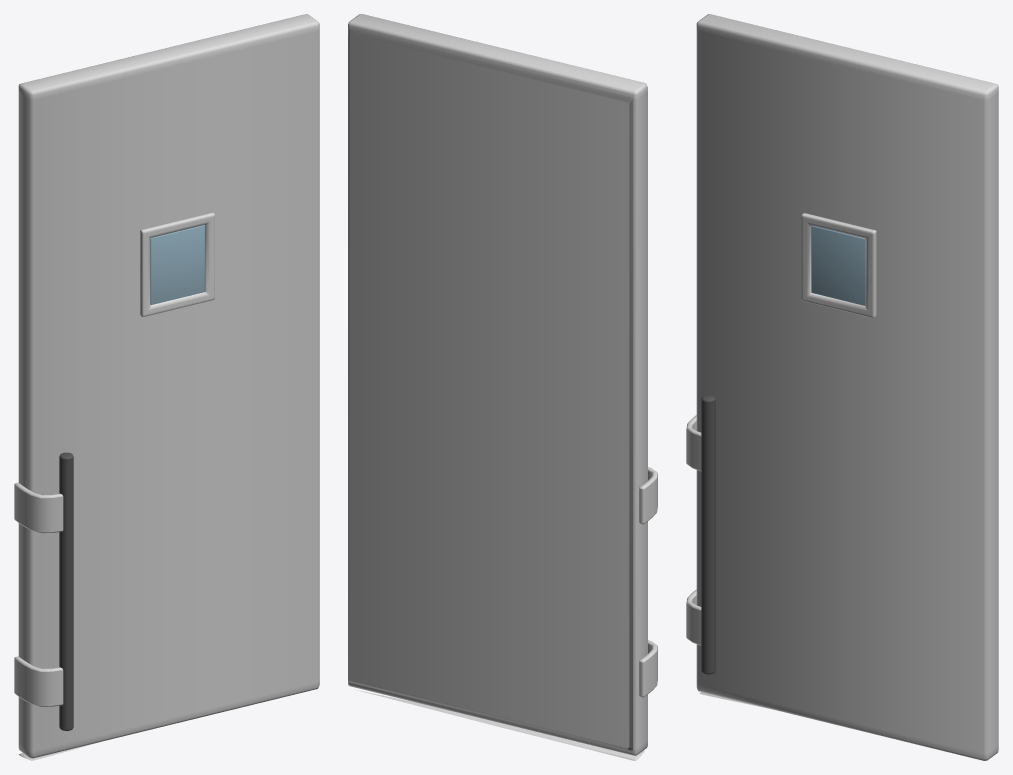
The model's file is 102DoorUp.obj.
3 renders of one model, left to right at view 1: azimuth 30°, elevation 25°; view 2: azimuth 150°, elevation 25°; view 3: azimuth 330°, elevation 25°, orthographic.
Visible parts, largest first — view 1: 102.001; view 2: 102.001; view 3: 102.001.
Part boxes in pixels (x1,y1,x2,y2): 102.001: (14, 14, 319, 760); 102.001: (348, 14, 657, 760); 102.001: (686, 14, 998, 760).
Bounding box in the file's own units: 0.5932 × 1.29 × 0.11.
